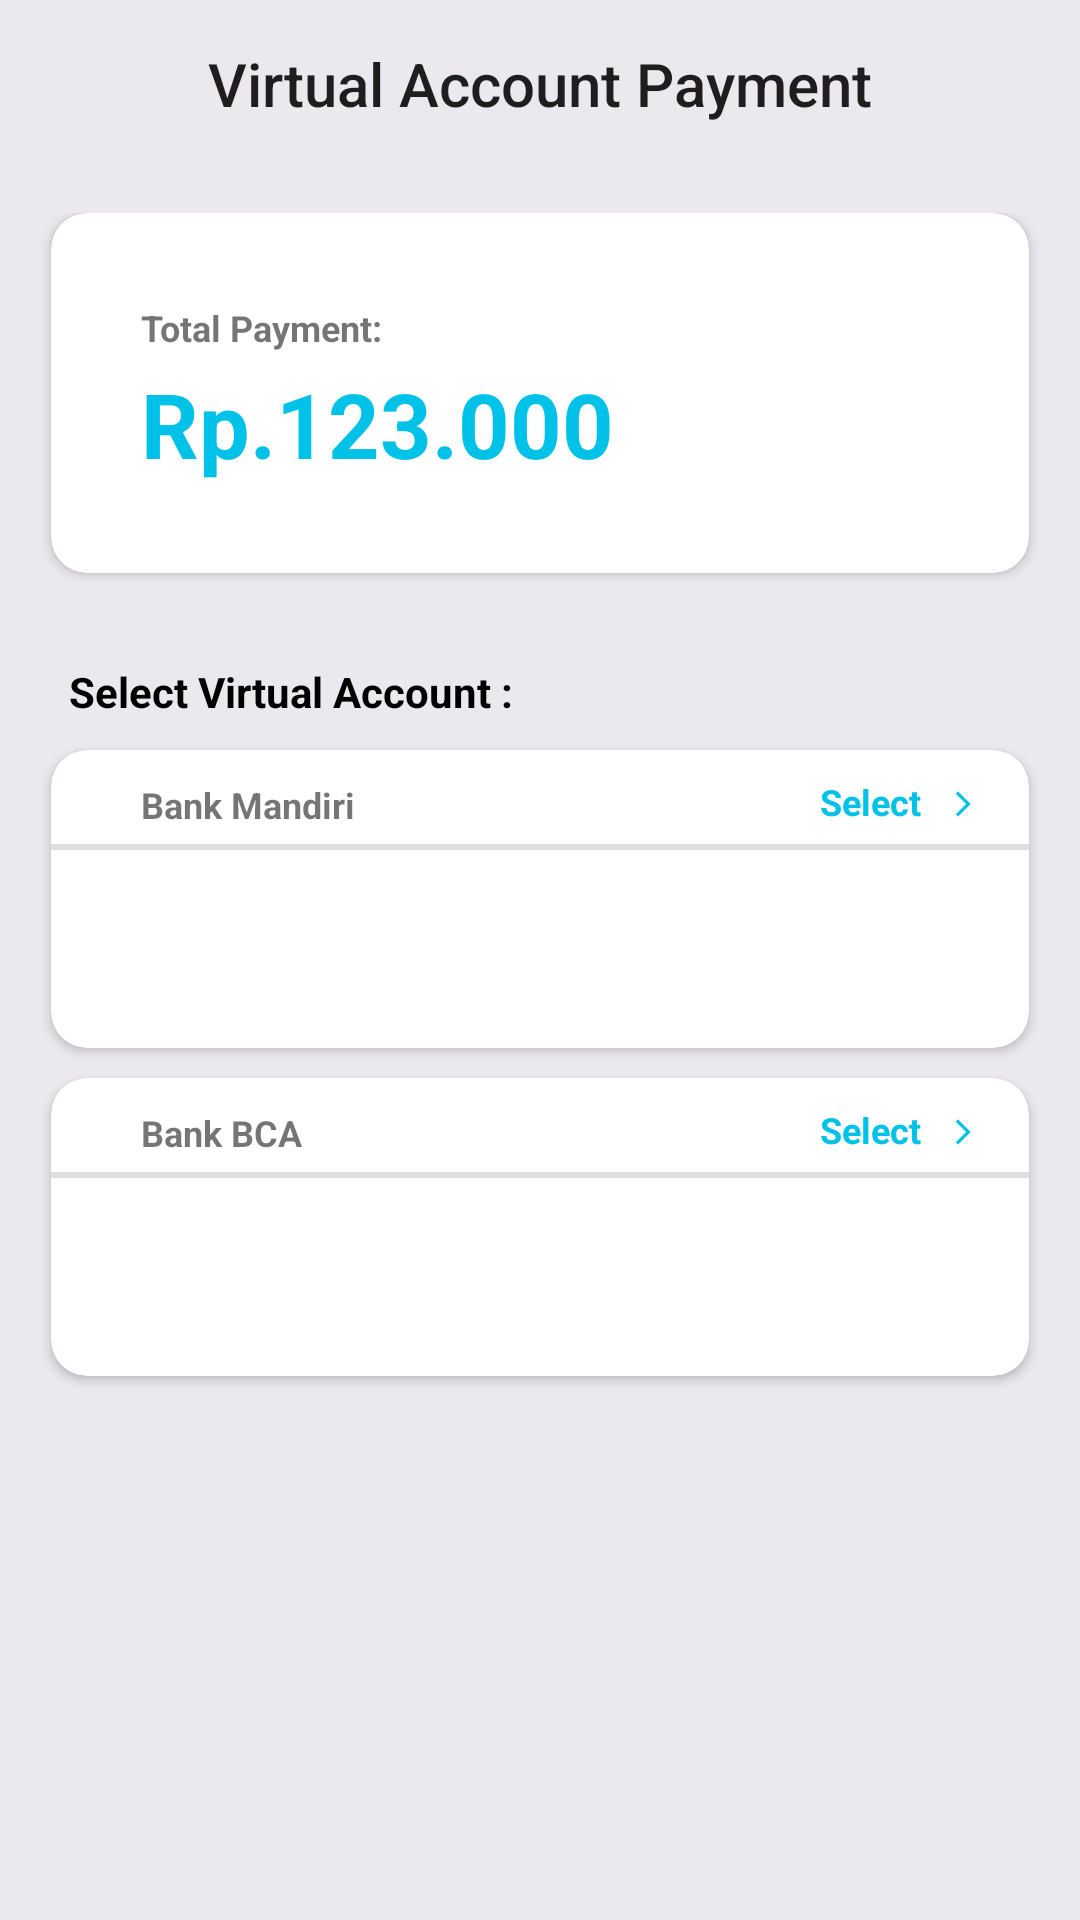

Point at icon controls on the screen. Image size 1080 × 1920, points as (x=x, y=y).
arrow forward: (x=963, y=804), (x=963, y=1132)
